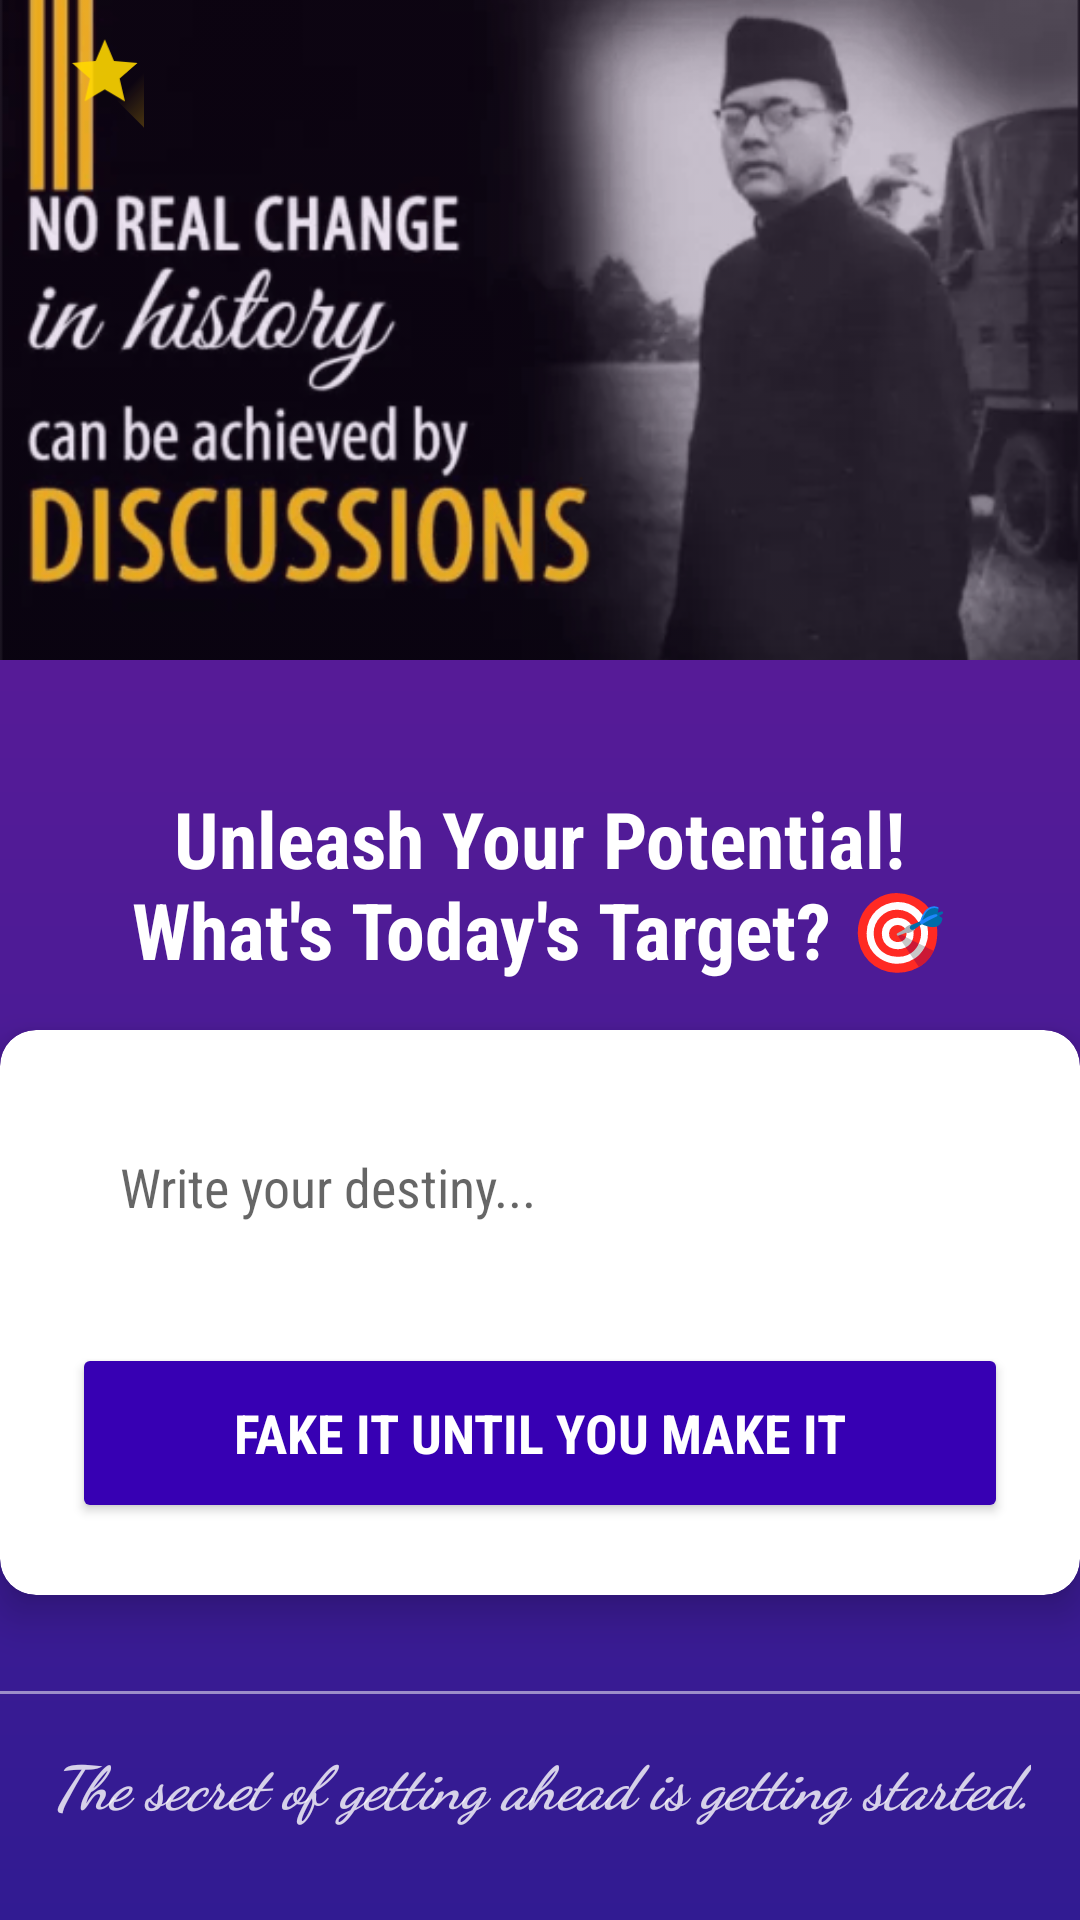

Locate icon controls on the screen. Image size 1080px×1920px, boxes as (x1, y1, x2, y2).
shooting star: (28, 0, 144, 144)
